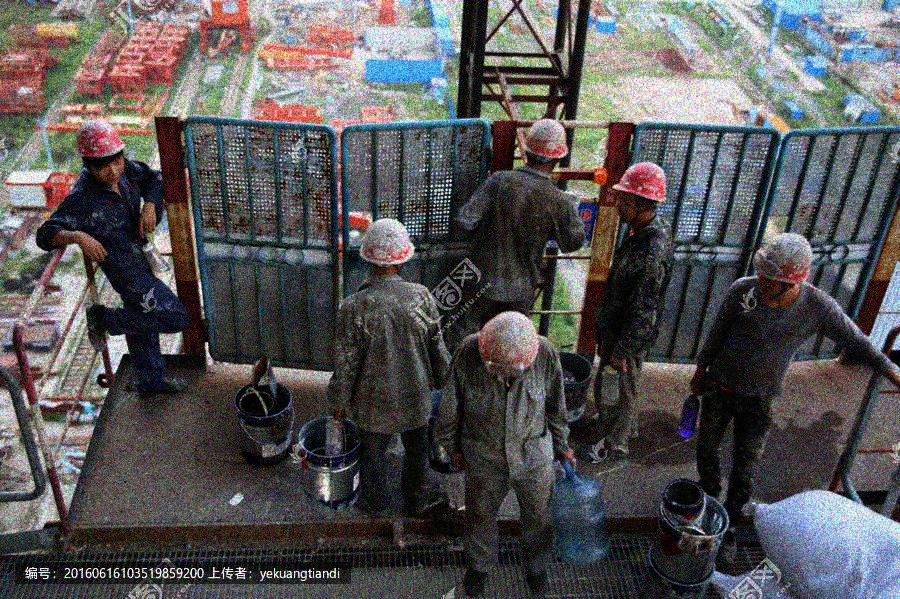helmet: (476, 308, 544, 382), (751, 230, 813, 298), (613, 160, 669, 225), (75, 116, 127, 184), (359, 217, 417, 276), (521, 115, 571, 173)
